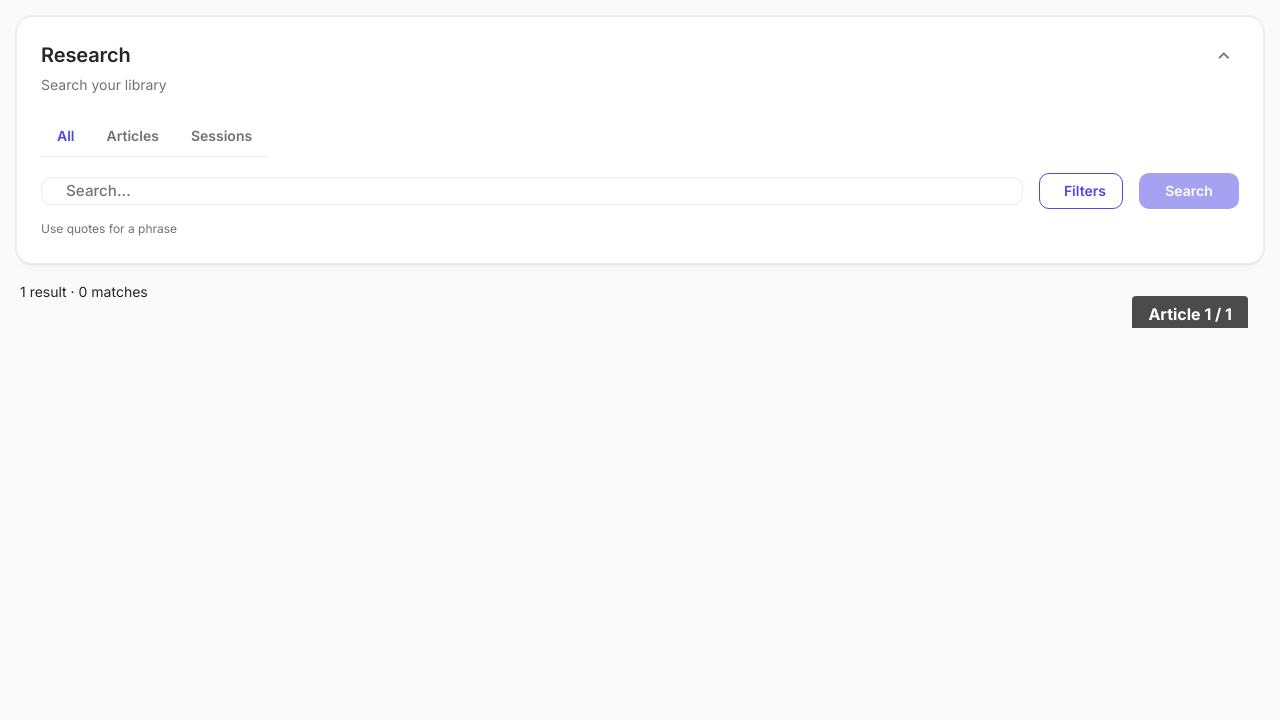
Test: Research View › opens the structured filter drawer
Click the button "Filters".
click(1081, 191)  # box [1039,173,1123,209]
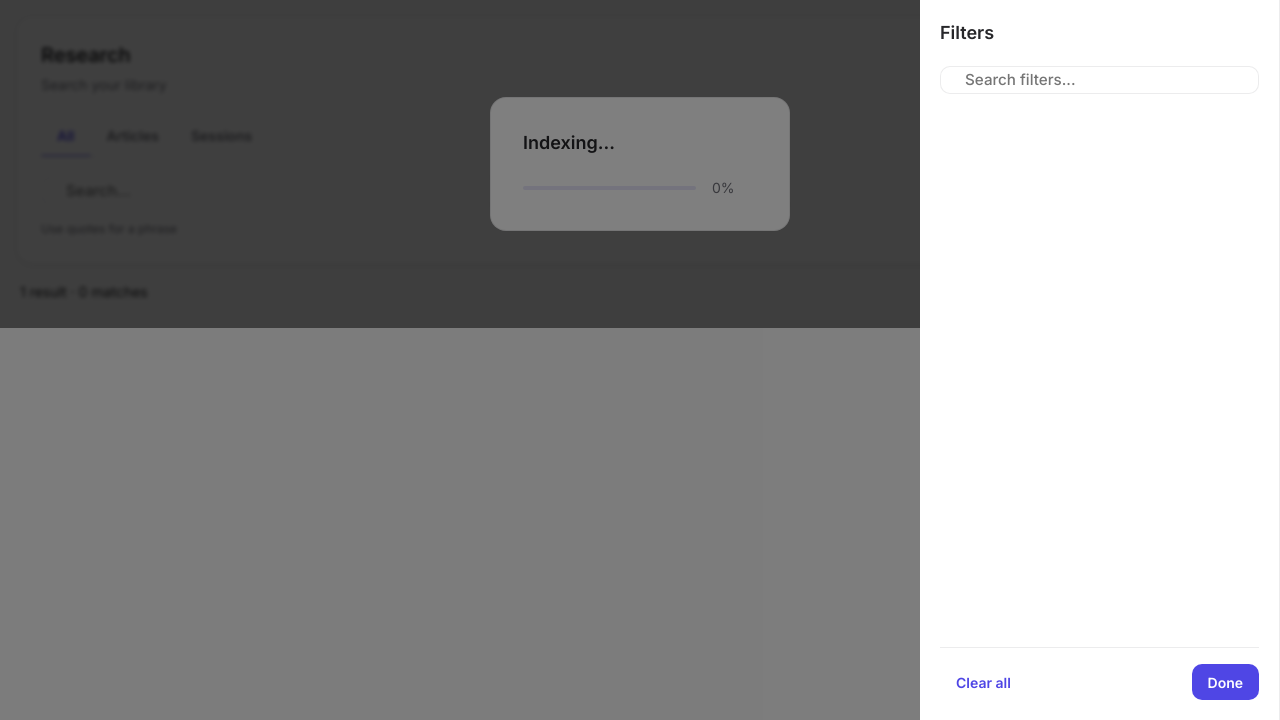
expect the element showing "Filters Clear all Done" is shown: met, box [920,0,1279,719]
expect the button "Done" is shown: met, box [1192,664,1259,700]
expect the field with placeholder "Search filters..." is shown: met, box [965,70,1246,89]
